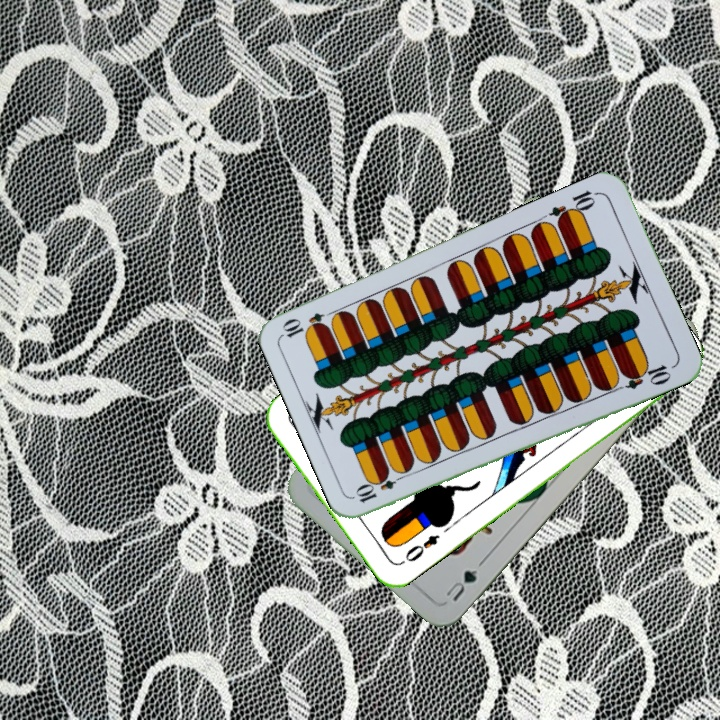E10: (546, 186, 602, 227), (352, 468, 409, 506)
EO: (401, 530, 443, 565)
GU: (441, 565, 480, 605)
